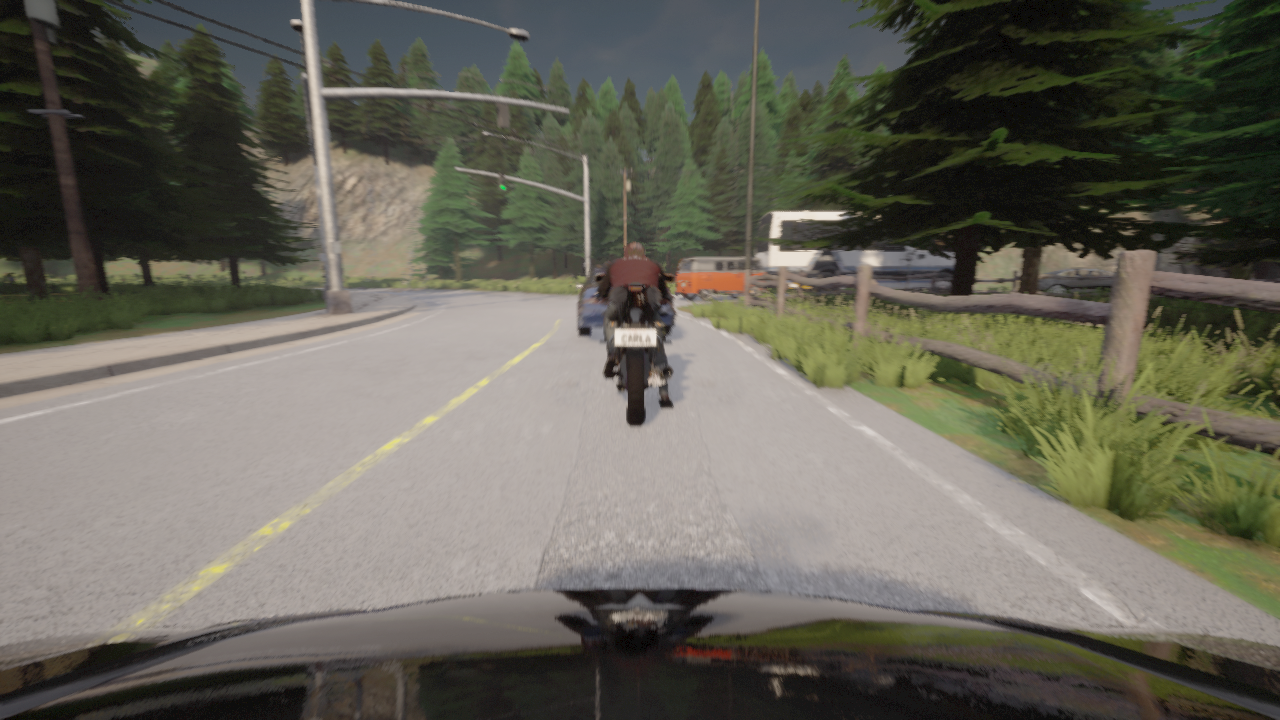cyclist: (0, 588, 1279, 719), (755, 211, 985, 293), (594, 274, 675, 425), (577, 264, 675, 335), (675, 257, 767, 301), (1037, 267, 1114, 293), (605, 261, 610, 263)
pedestrian: (321, 264, 326, 283), (8, 274, 14, 283)
